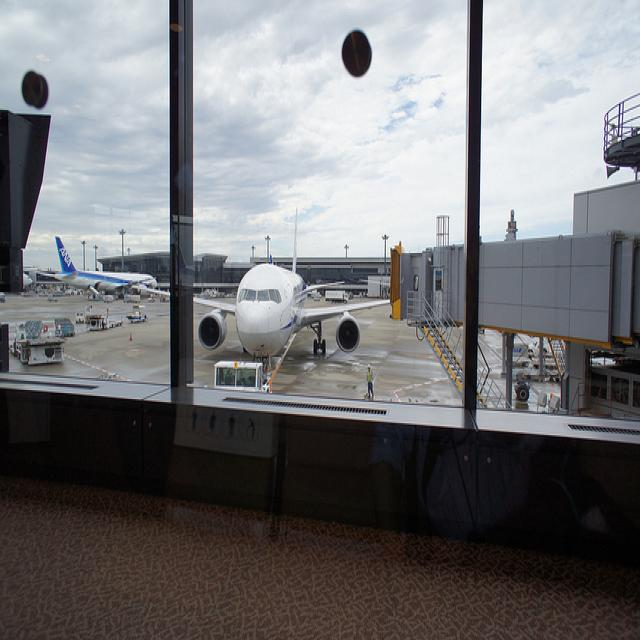Vehicle: (214, 359, 272, 393), (322, 288, 352, 308), (314, 296, 320, 301)
